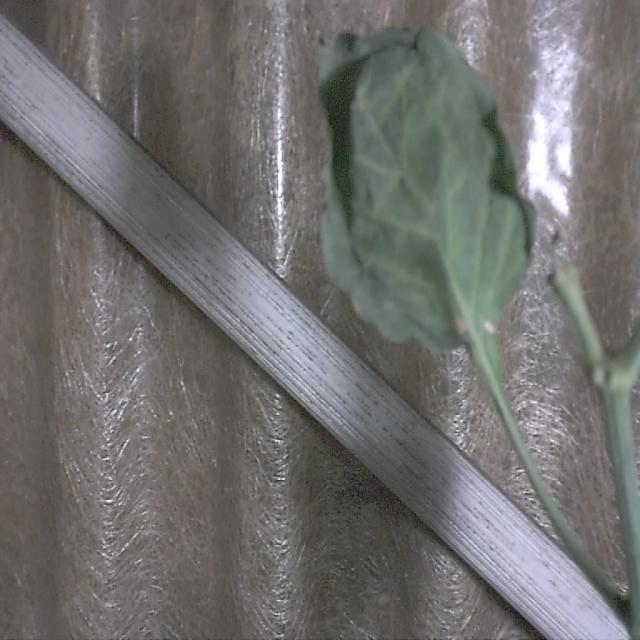Leaf: (310, 22, 536, 349)
